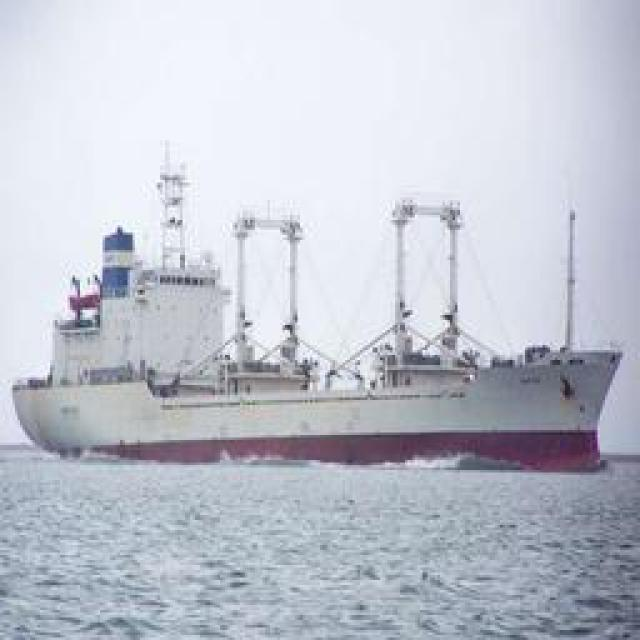Ship: (17, 170, 607, 458)
